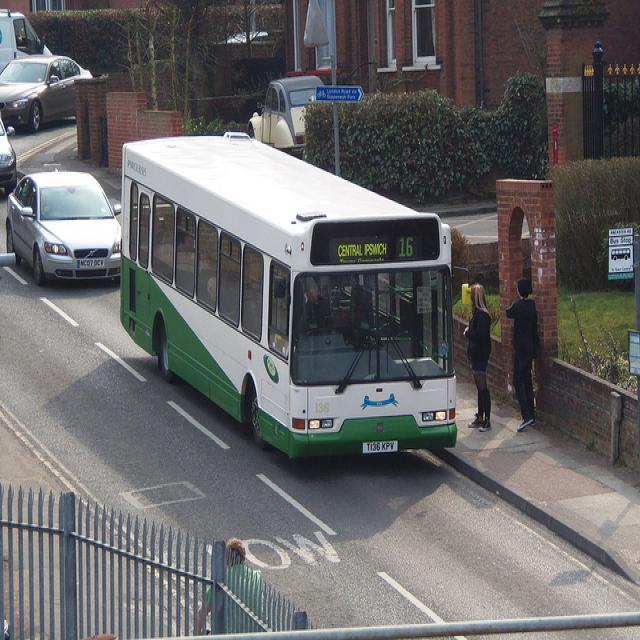Vehicle: (118, 129, 459, 466), (5, 173, 121, 289), (0, 55, 92, 136), (247, 78, 327, 145), (1, 124, 18, 193)
